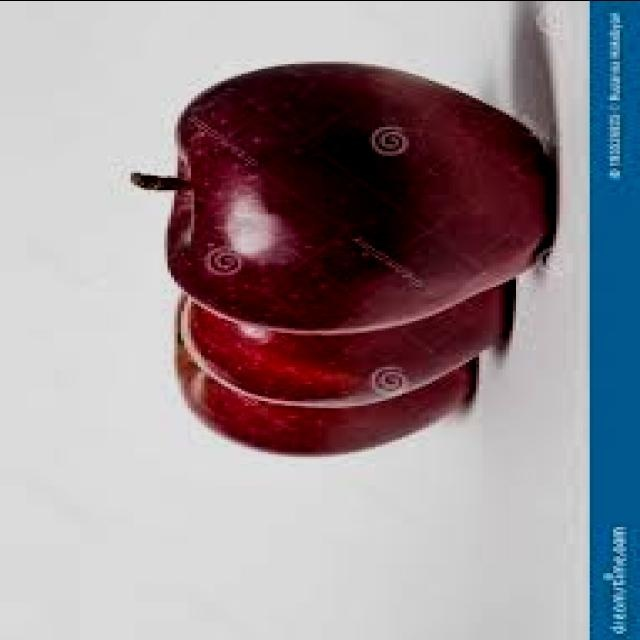agrume: (109, 34, 561, 336), (134, 173, 526, 439), (138, 292, 514, 484)
